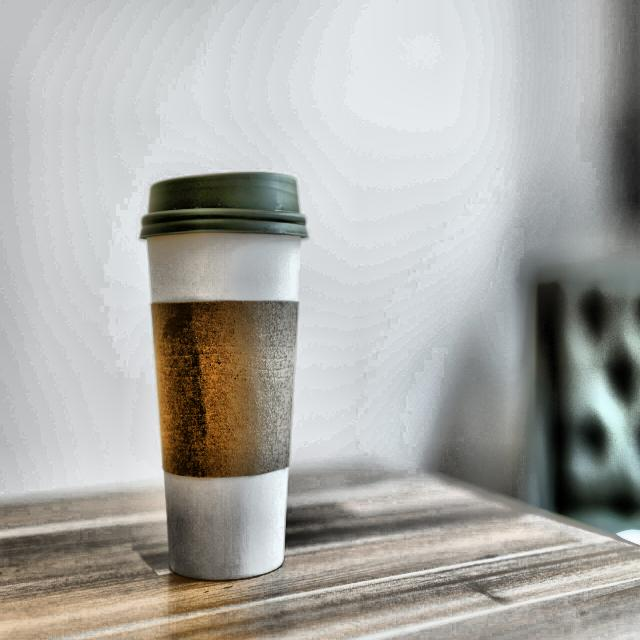Cup: (138, 212, 310, 584)
